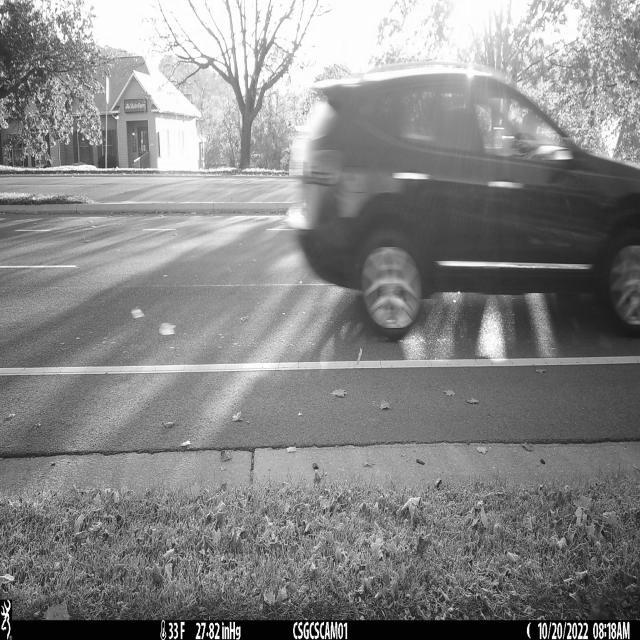SUV: (287, 64, 640, 337)
